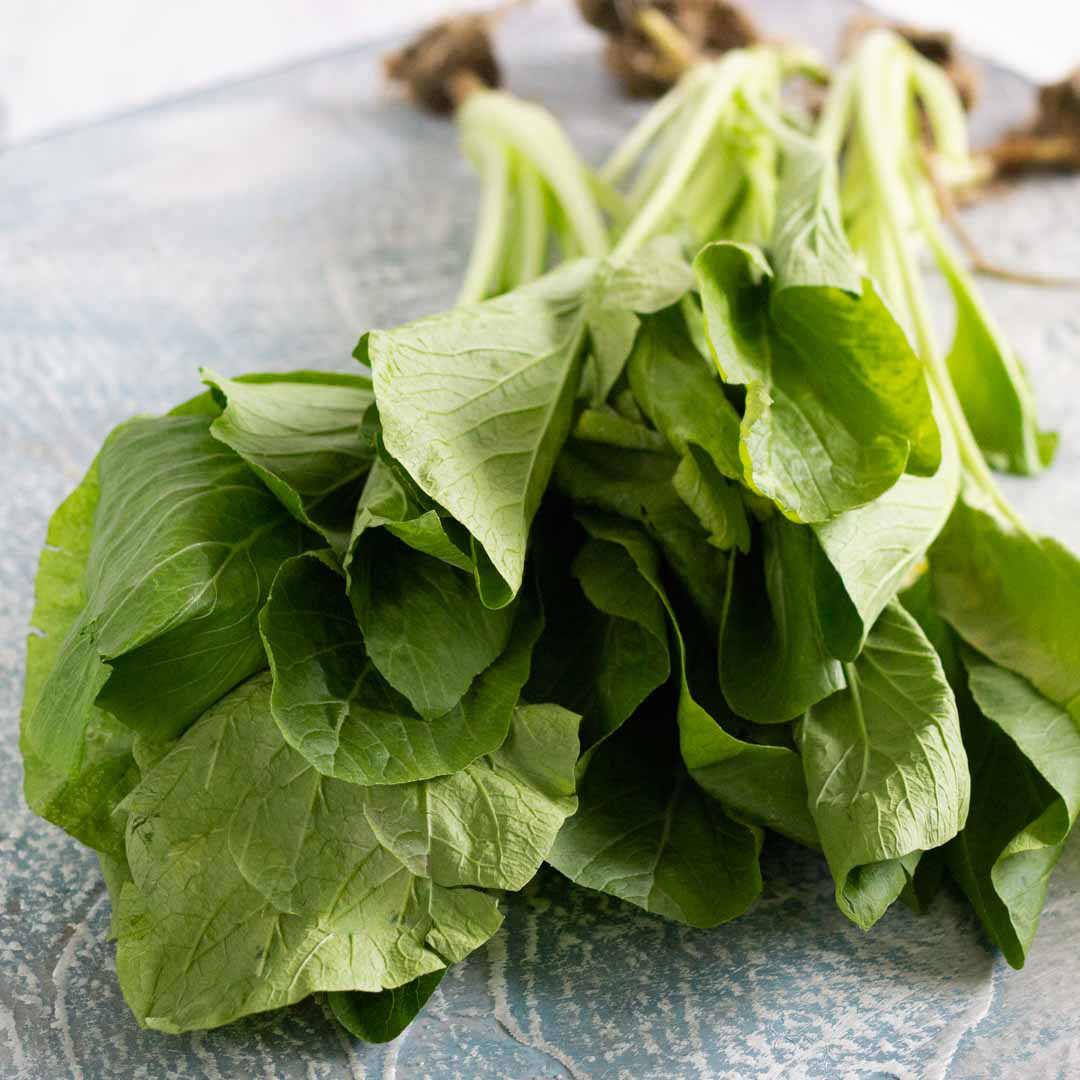Sawi: (144, 109, 1029, 1009)
